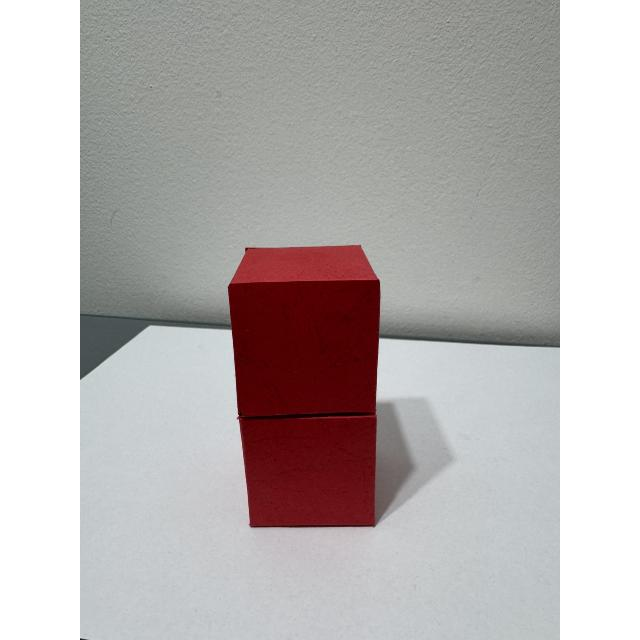red_cube: (218, 238, 414, 546)
